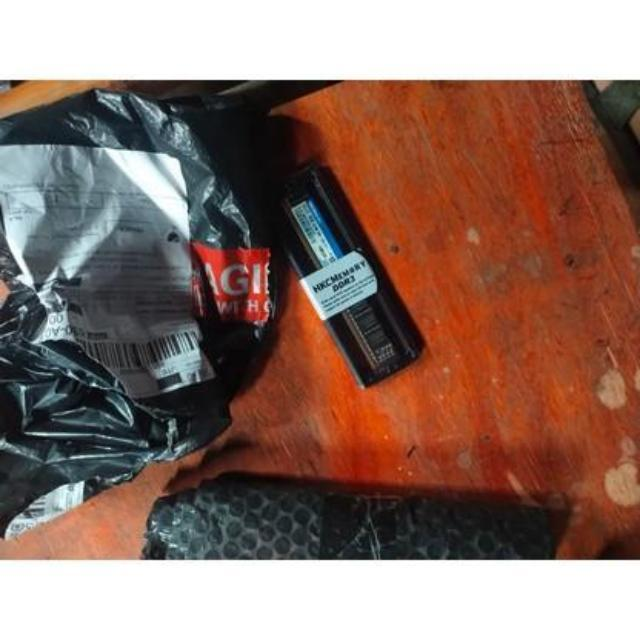RAM: (249, 160, 443, 395)
